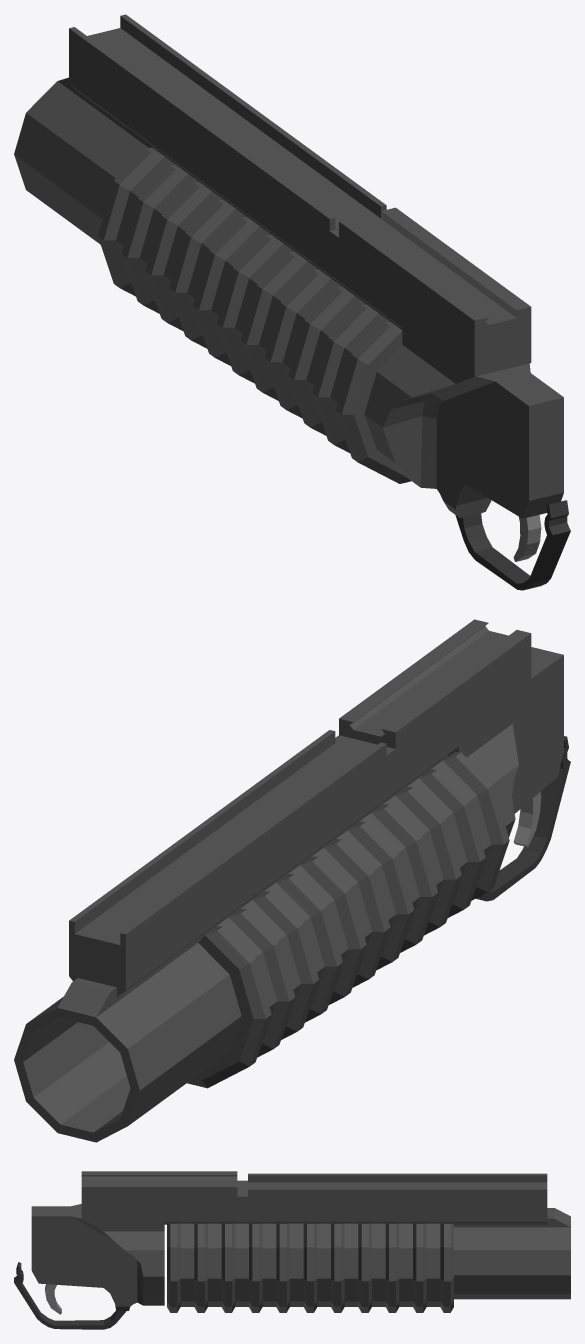
The picture shows the model from 3 angles, top to bottom: view 1: azimuth 30°, elevation 25°; view 2: azimuth 150°, elevation 25°; view 3: azimuth 270°, elevation 25°; orthographic projection. The views are drawn at different scales.
Visible parts, largest first — view 1: M203, Barrel, Trigger; view 2: Barrel, M203, Trigger; view 3: M203, Barrel, Trigger.
Part boxes in pixels (x1=…): M203: x1=69, y1=14, x2=570, y2=590; Barrel: x1=14, y1=77, x2=411, y2=483; Trigger: x1=513, y1=515, x2=541, y2=561; Barrel: x1=14, y1=752, x2=509, y2=1142; M203: x1=69, y1=619, x2=570, y2=996; Trigger: x1=513, y1=792, x2=541, y2=847; M203: x1=14, y1=1171, x2=547, y2=1329; Barrel: x1=167, y1=1208, x2=570, y2=1312; Trigger: x1=45, y1=1284, x2=61, y2=1314.
Size of the model in its own units: 40.47 by 59.42 by 202.
1 material, 1 textured.
